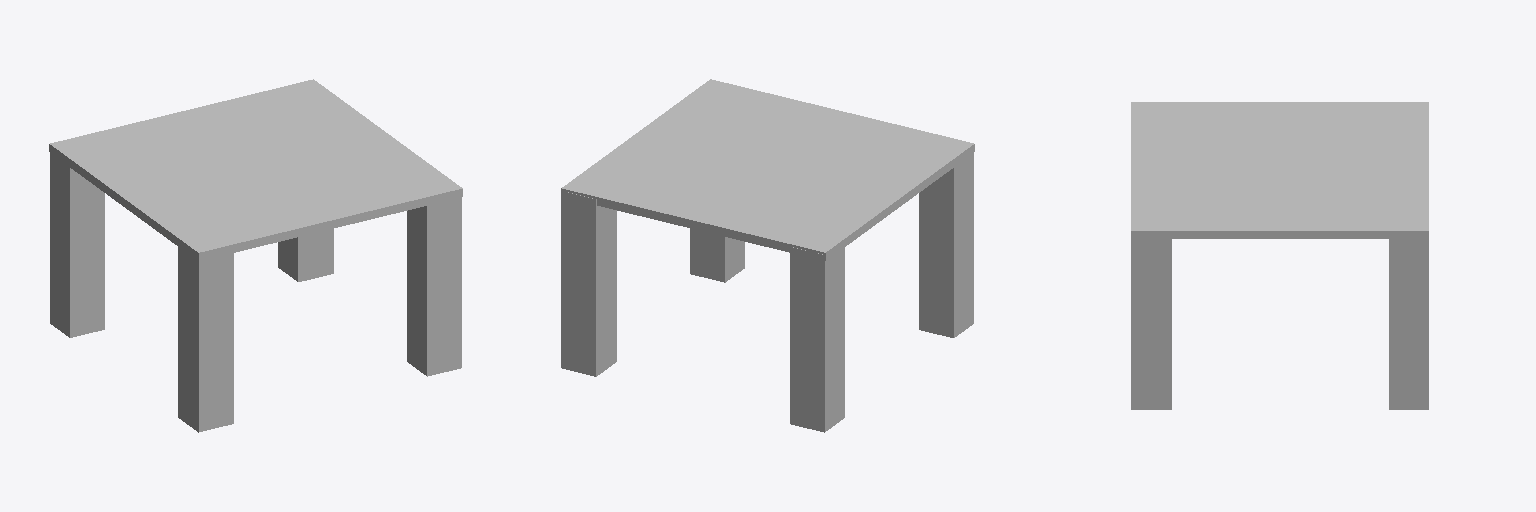
File: table.obj
3 renders of one model, left to right at view 1: azimuth 30°, elevation 25°; view 2: azimuth 150°, elevation 25°; view 3: azimuth 270°, elevation 25°, orthographic.
Visible parts, largest first — view 1: Cube, Cube.001, Cube.002, Cube.004, Cube.003; view 2: Cube, Cube.004, Cube.003, Cube.001, Cube.002; view 3: Cube, Cube.002, Cube.003.
Part boxes in pixels (left/top/right/bottom): Cube: left=49, top=79, right=462, bottom=261; Cube.001: left=178, top=247, right=233, bottom=432; Cube.002: left=407, top=197, right=461, bottom=376; Cube.004: left=50, top=153, right=104, bottom=337; Cube.003: left=278, top=229, right=333, bottom=281; Cube: left=561, top=79, right=974, bottom=260; Cube.004: left=790, top=247, right=844, bottom=432; Cube.003: left=561, top=191, right=616, bottom=376; Cube.001: left=919, top=153, right=973, bottom=337; Cube.002: left=690, top=228, right=744, bottom=282; Cube: left=1131, top=102, right=1428, bottom=238; Cube.002: left=1131, top=239, right=1171, bottom=409; Cube.003: left=1389, top=239, right=1428, bottom=409.
Size of the model in its own units: 3.12 by 2.03 by 3.05.